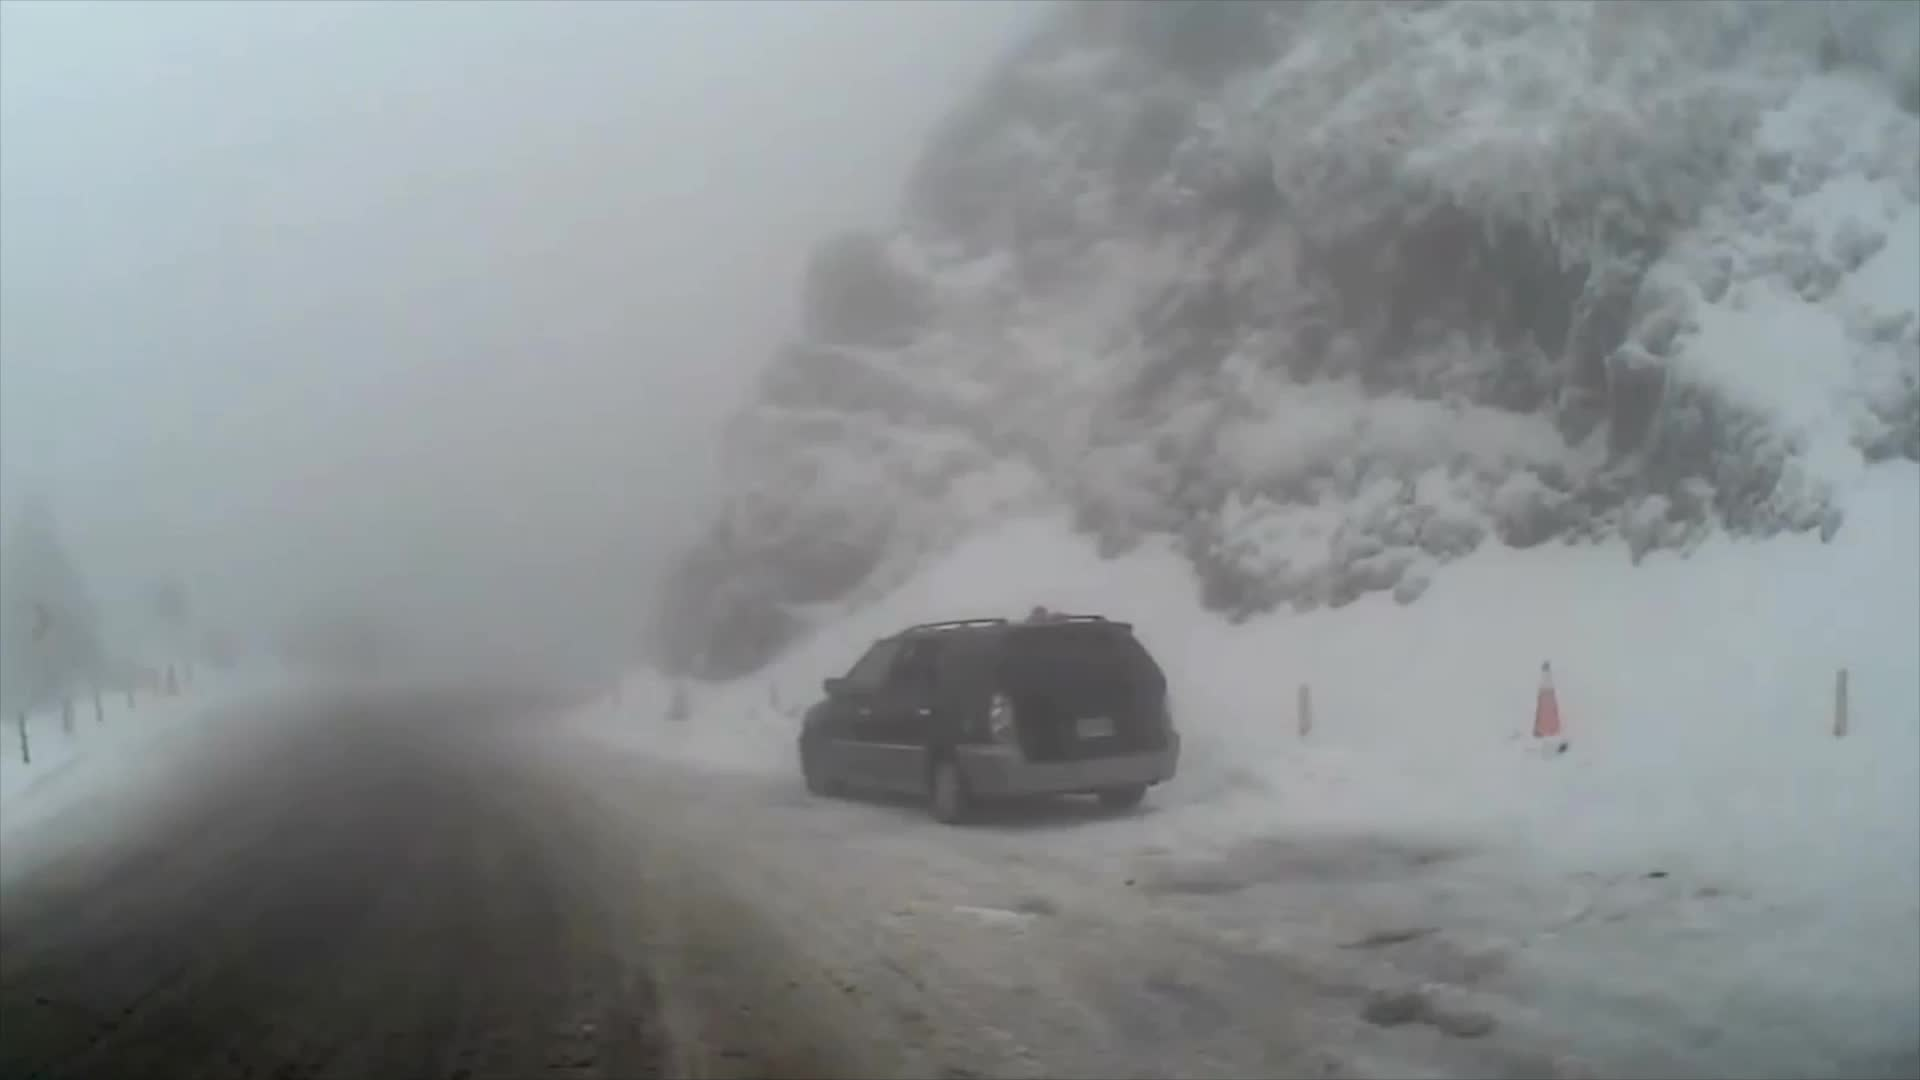vehicle: (795, 611, 1180, 822)
